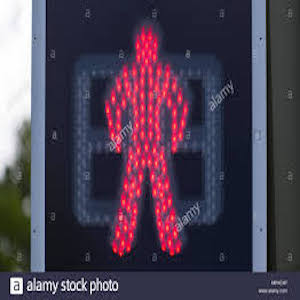red: (103, 15, 205, 260)
